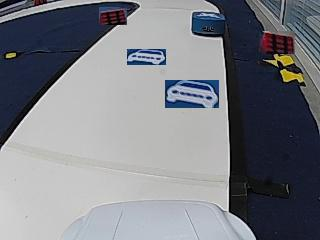prop: (192, 12, 225, 37)
